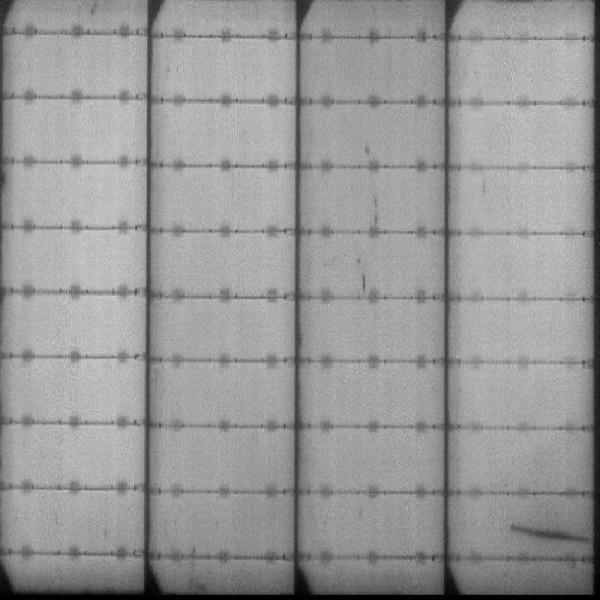scratch: (504, 522, 592, 546)
